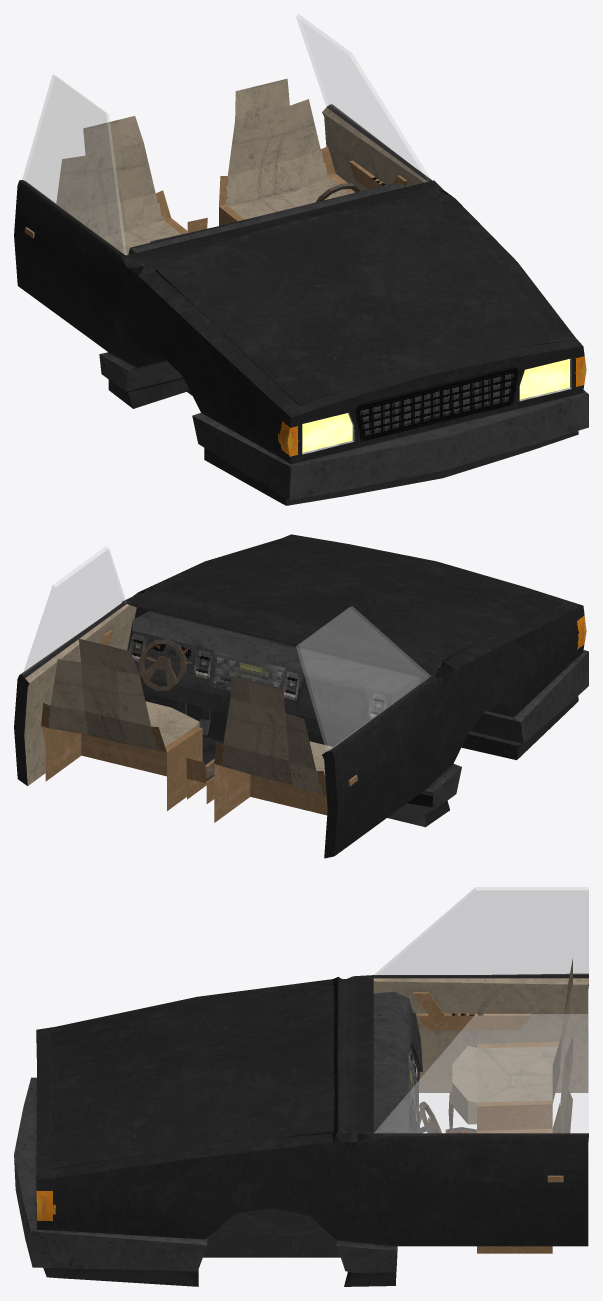
Rendered from cockpit.glb.
The picture shows the model from 3 angles, top to bottom: view 1: azimuth 30°, elevation 25°; view 2: azimuth 150°, elevation 25°; view 3: azimuth 270°, elevation 25°; orthographic projection. The views are drawn at different scales.
Parts seen in each view (by area): view 1: Car_Base, car_hood, R_Door_Front, L_Door_Front; view 2: Car_Base, car_hood, R_Door_Front, L_Door_Front, Steering_wheel; view 3: Car_Base, L_Door_Front, car_hood, R_Door_Front.
Part boxes in pixels (x1,y1,x2,y2): Car_Base: (56,78,588,505); car_hood: (155,200,561,405); R_Door_Front: (14,74,136,351); L_Door_Front: (296,14,443,192); Car_Base: (41,534,588,827); car_hood: (162,539,561,677); R_Door_Front: (296,606,443,858); L_Door_Front: (14,546,136,785); Steering_wheel: (139,639,186,690); Car_Base: (14,958,572,1286); L_Door_Front: (357,1014,588,1246); car_hood: (50,985,351,1169); R_Door_Front: (372,887,588,1092).
Bounding box in the file's own units: 1.71 × 1.19 × 2.41.
Materials: 2 (1 with a texture image).
